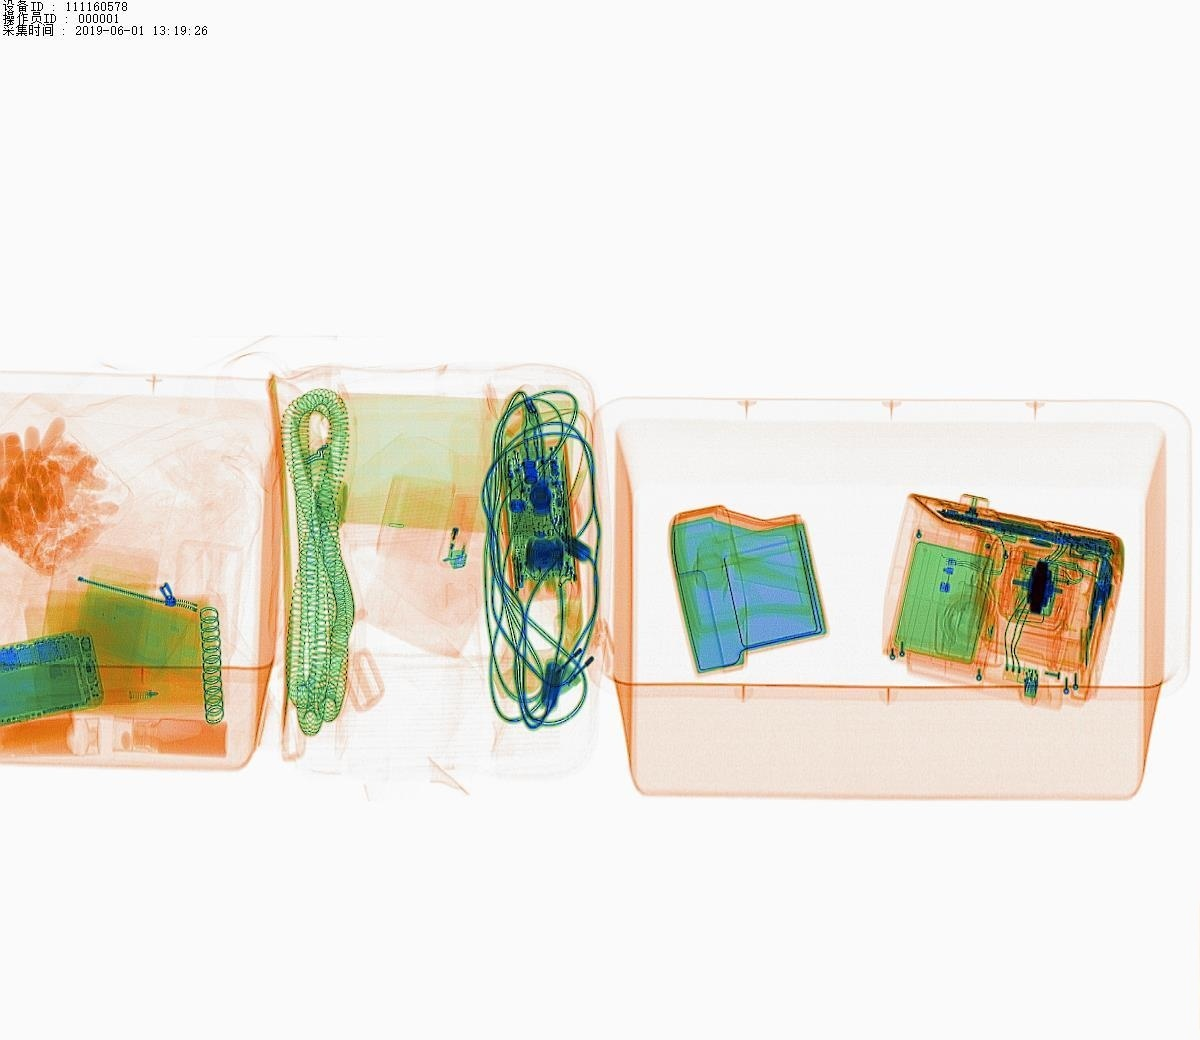NonmetallicFire: (431, 473, 489, 579)
